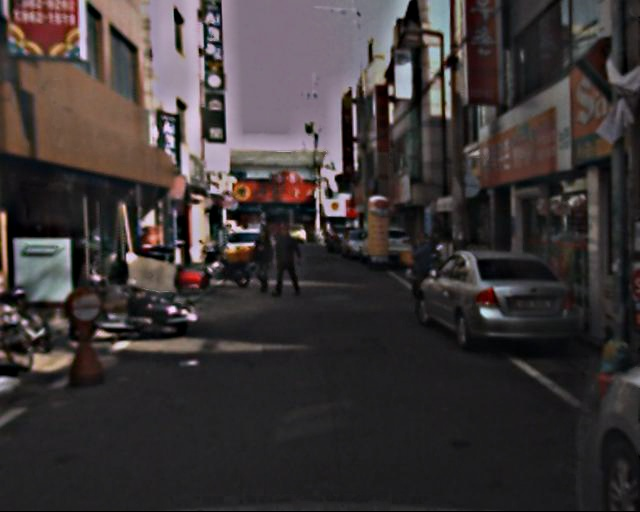person: (276, 217, 307, 299), (408, 228, 437, 314), (254, 222, 281, 293)
